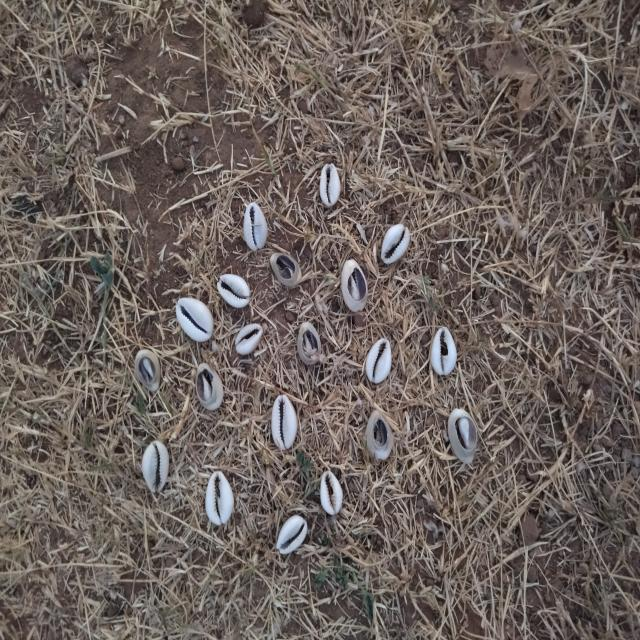facedown: (446, 407, 481, 466), (364, 405, 397, 464), (339, 258, 370, 316), (192, 362, 225, 413), (268, 248, 304, 290), (134, 347, 163, 393), (297, 321, 322, 365)
faceup: (174, 296, 215, 344), (204, 468, 236, 528), (269, 392, 300, 451), (270, 393, 300, 452), (140, 439, 170, 495), (240, 199, 269, 253), (428, 325, 458, 376), (274, 514, 310, 556), (363, 334, 392, 386), (217, 271, 253, 311), (381, 222, 411, 266), (317, 158, 342, 210), (317, 470, 345, 516), (233, 320, 264, 357)
